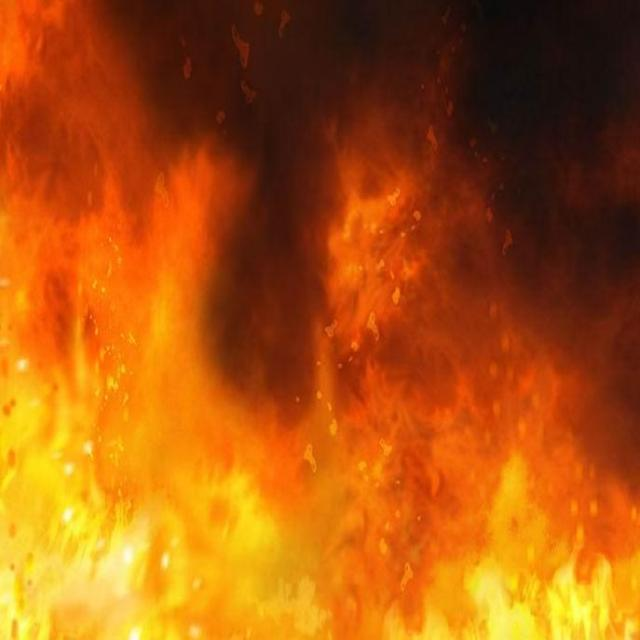fire: (2, 2, 634, 634)
